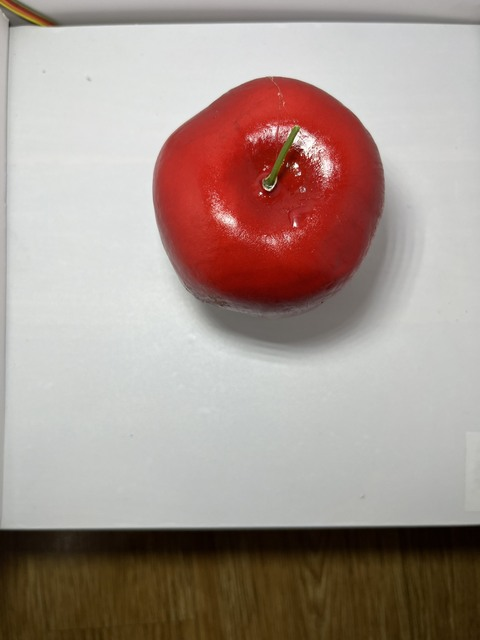Tao: (145, 70, 391, 326)
